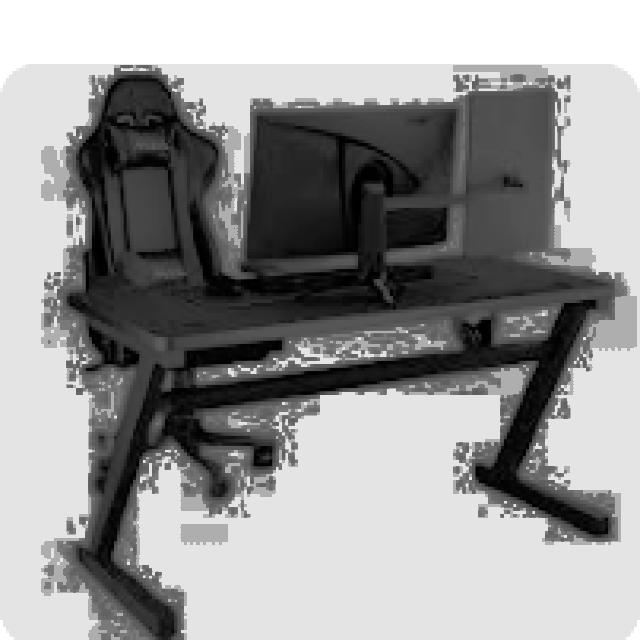book: (57, 78, 301, 499)
table: (63, 248, 615, 636)
